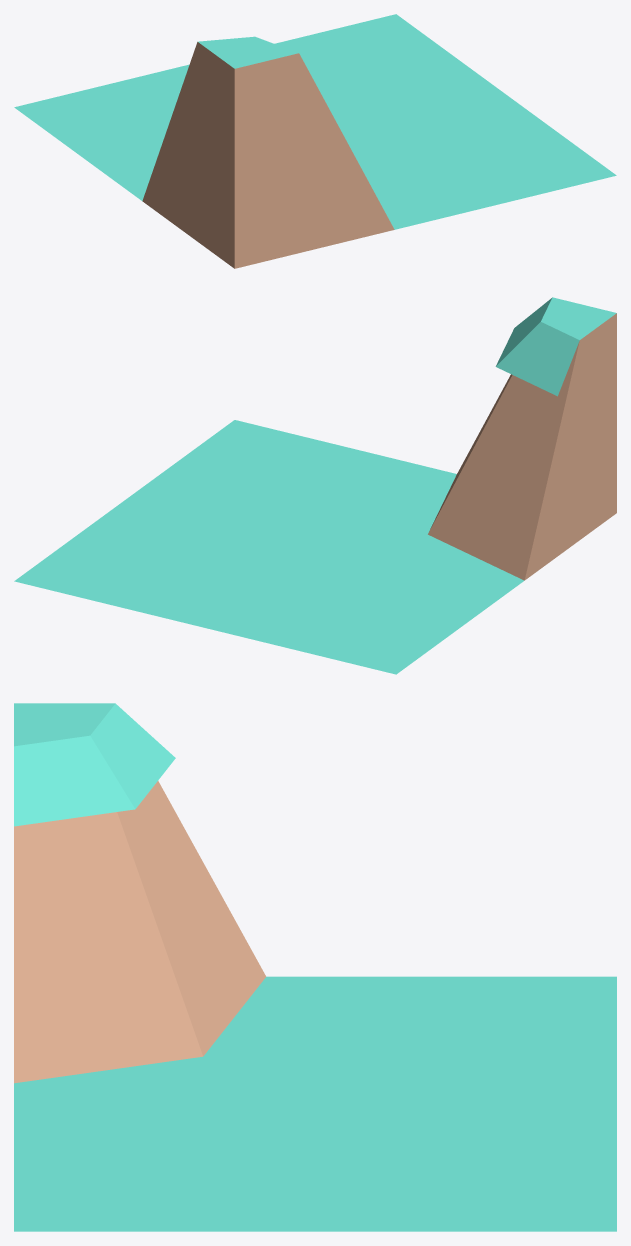
The model's file is cliff_halfCorner_rock_grass.glb.
3 renders of one model, top to bottom at view 1: azimuth 30°, elevation 25°; view 2: azimuth 150°, elevation 25°; view 3: azimuth 270°, elevation 25°, orthographic. The views are drawn at different scales.
Visible parts, largest first — view 1: cliff_halfCorner_rock_grass; view 2: cliff_halfCorner_rock_grass; view 3: cliff_halfCorner_rock_grass.
Boxes of the visible parts, x1,y1,x2,y2 form: cliff_halfCorner_rock_grass: (14, 14, 616, 268); cliff_halfCorner_rock_grass: (14, 297, 616, 674); cliff_halfCorner_rock_grass: (14, 703, 616, 1231).
Size of the model in its own units: 1 by 0.5 by 1.
